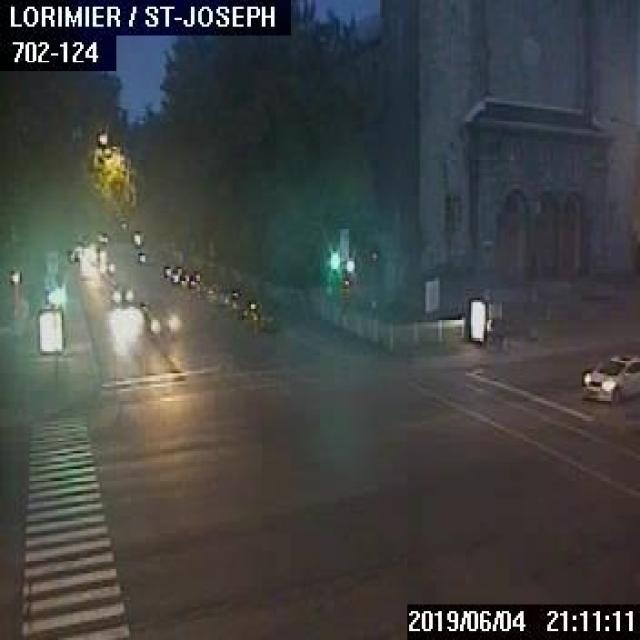vehicle: (581, 353, 638, 403), (140, 298, 178, 333), (242, 301, 276, 332), (110, 282, 132, 304), (98, 257, 114, 273), (180, 267, 189, 287), (169, 266, 180, 282), (189, 270, 198, 288)
